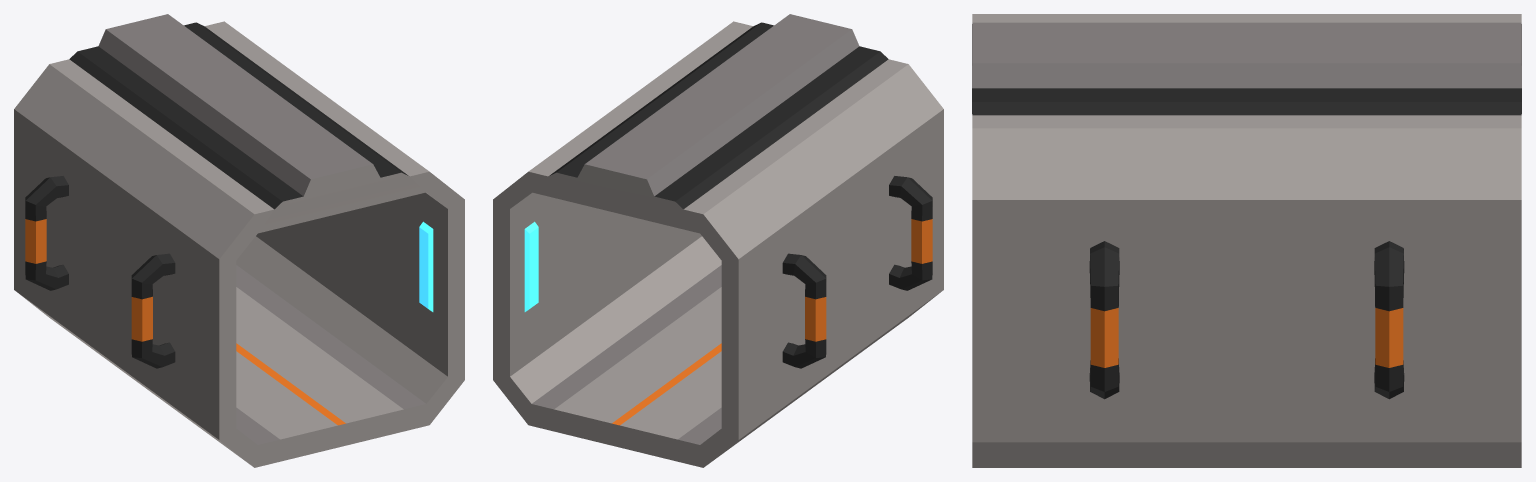
The model's file is scifi_scifi-planet-base-hall-middle.fbx.
The picture shows the model from 3 angles, left to right: view 1: azimuth 30°, elevation 25°; view 2: azimuth 150°, elevation 25°; view 3: azimuth 270°, elevation 25°; orthographic projection. The views are drawn at different scales.
Parts seen in each view (by area): view 1: scifi_scifi_planet_base_hall_middle; view 2: scifi_scifi_planet_base_hall_middle; view 3: scifi_scifi_planet_base_hall_middle.
Boxes of the visible parts, bbox=[...] form: scifi_scifi_planet_base_hall_middle: bbox=[14, 14, 464, 467]; scifi_scifi_planet_base_hall_middle: bbox=[493, 14, 943, 467]; scifi_scifi_planet_base_hall_middle: bbox=[972, 14, 1521, 467].
Size of the model in its own units: 181 by 148 by 200.
